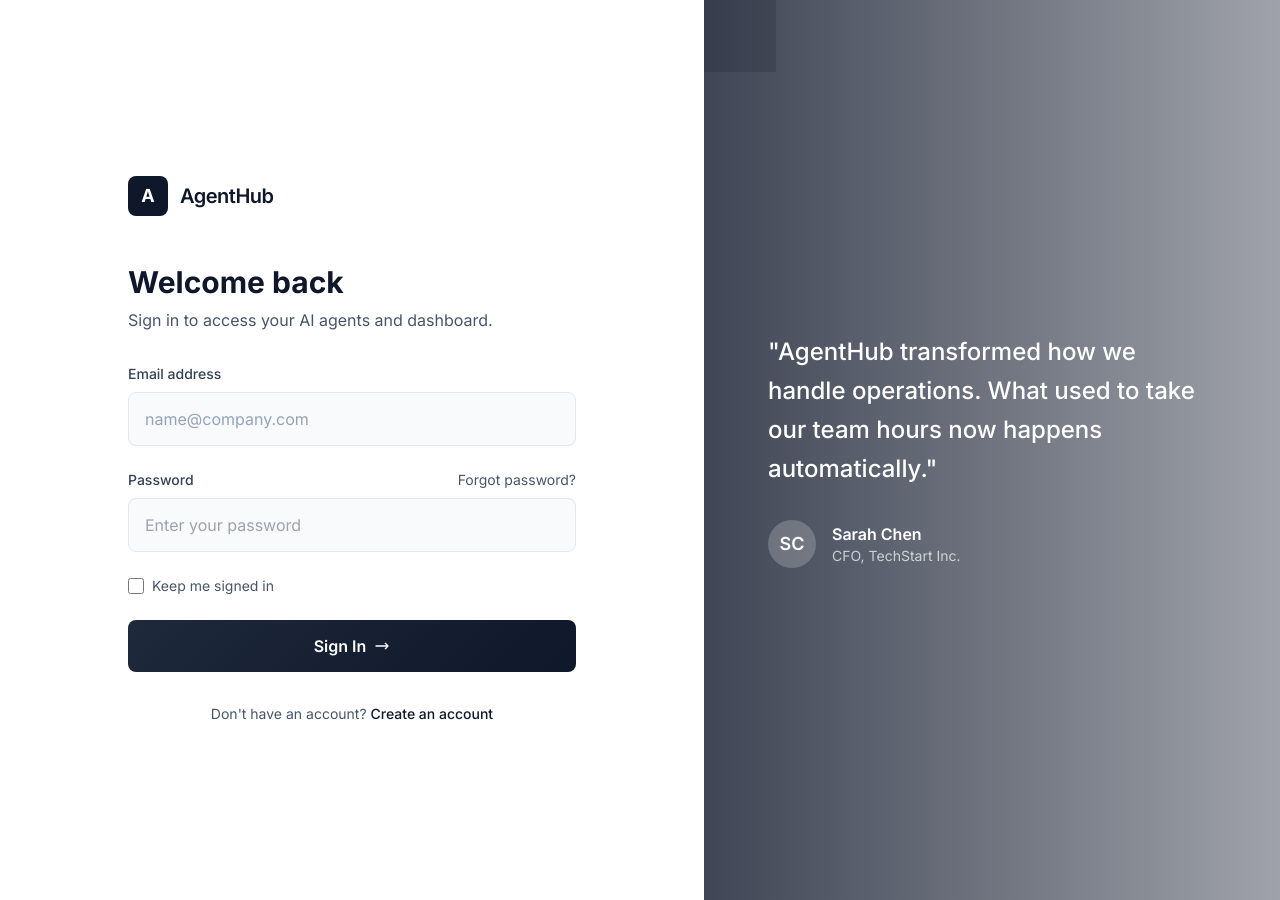
Test case: LoginPage › Form Submission › should display error message on login failure
Type "test@example.com" into the field with placeholder "name@company.com". click: [352, 419]
box: [128,392,576,446]
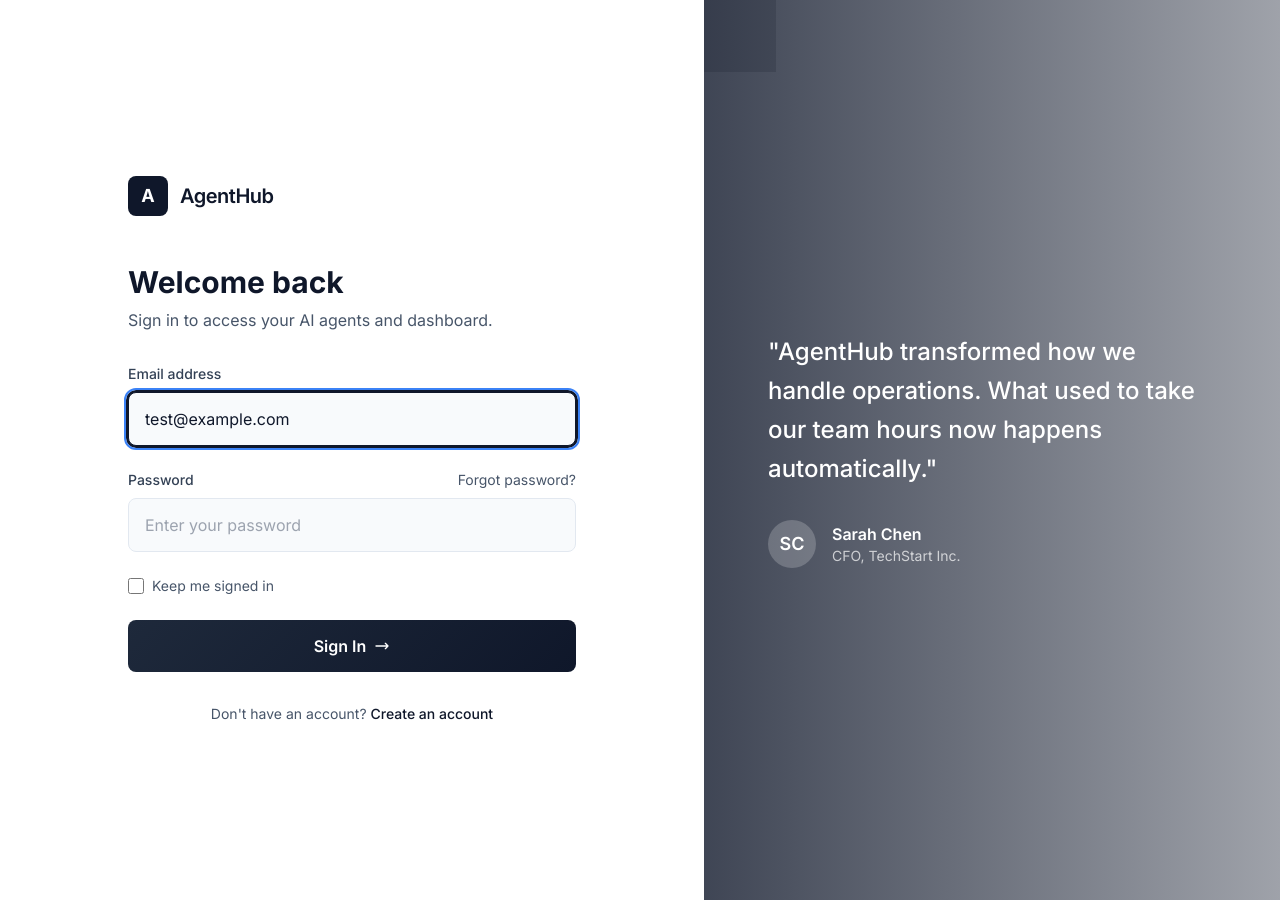
Type "wrongpassword" into the password field with placeholder "Enter your password". click: [352, 525]
box: [128,498,576,552]
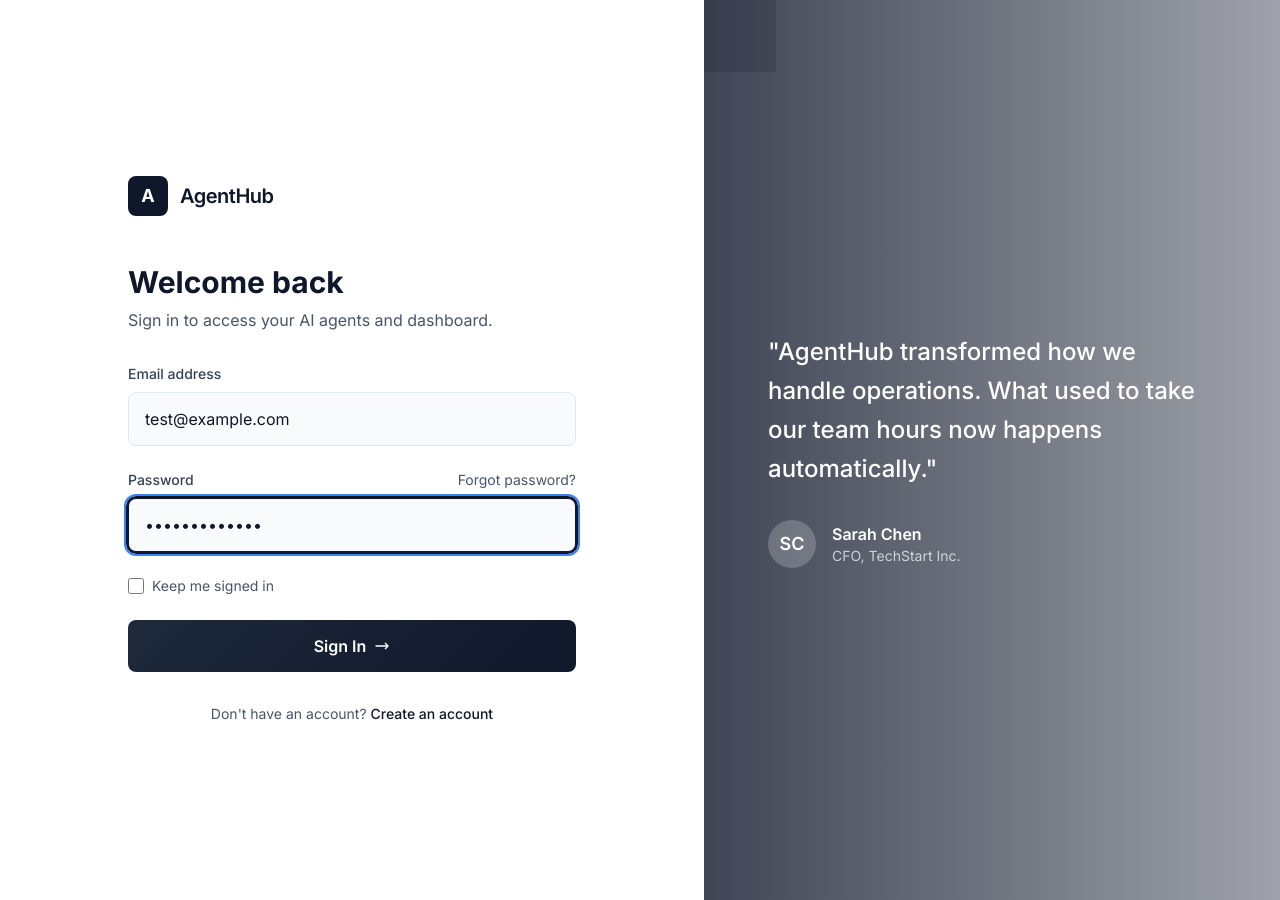
Click the button "Sign In". click: [352, 646]
box: [128,620,576,672]
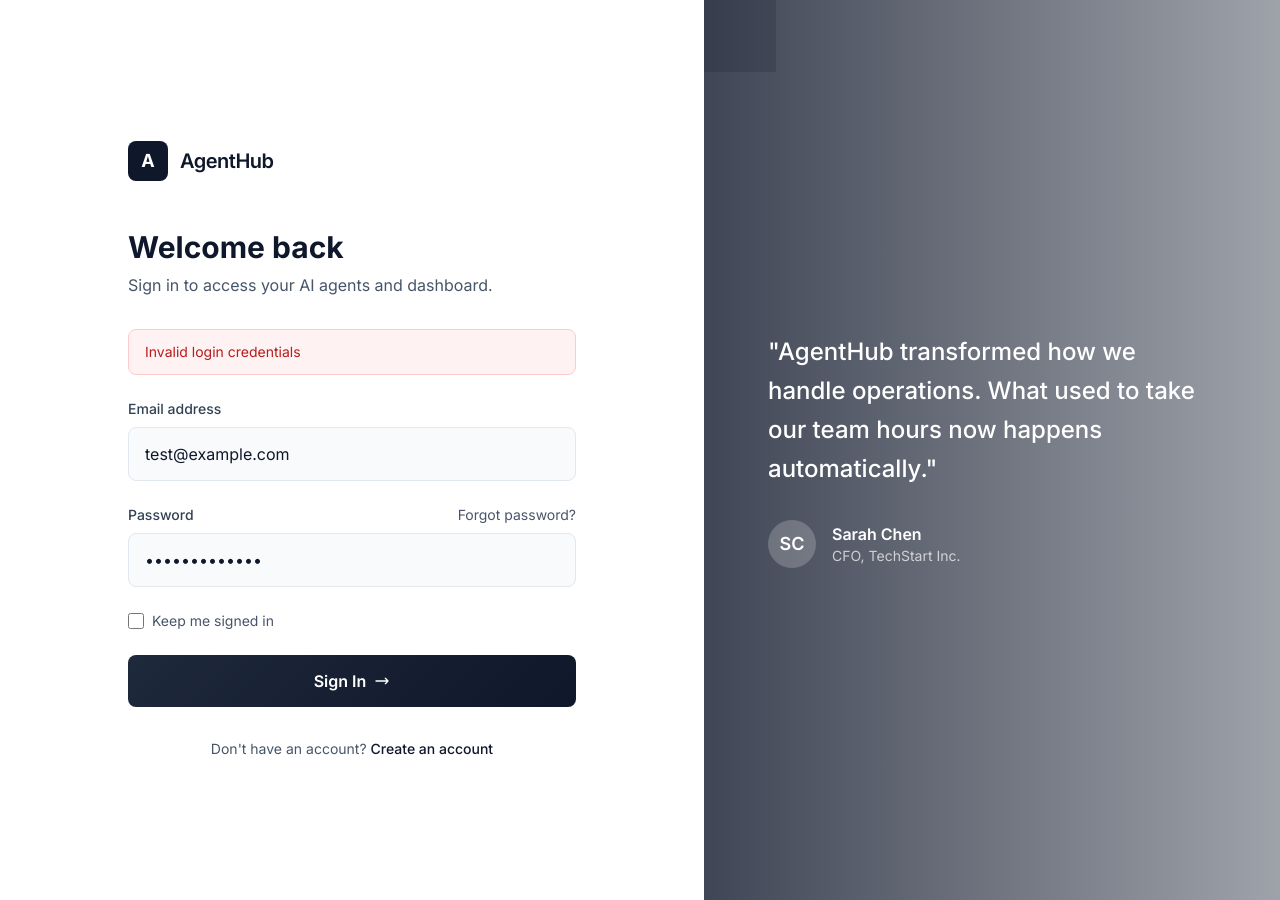
Check: the text "Invalid login credentials" is shown, box [128,329,576,375]
